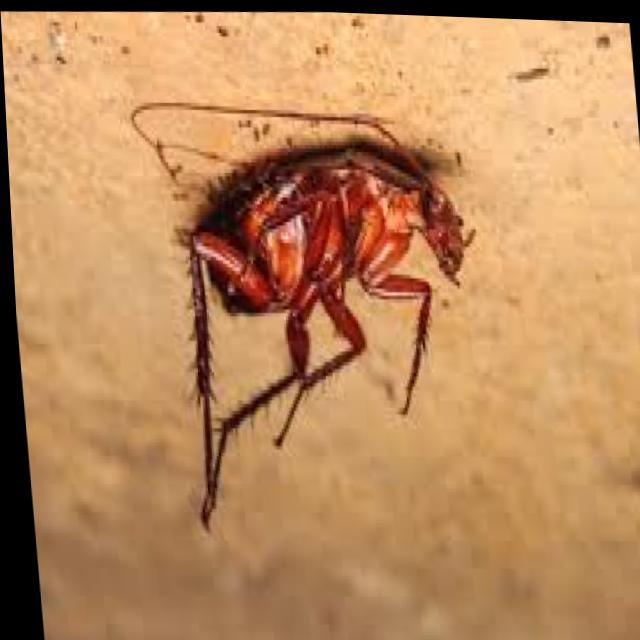Cockroach: (120, 77, 502, 548)
